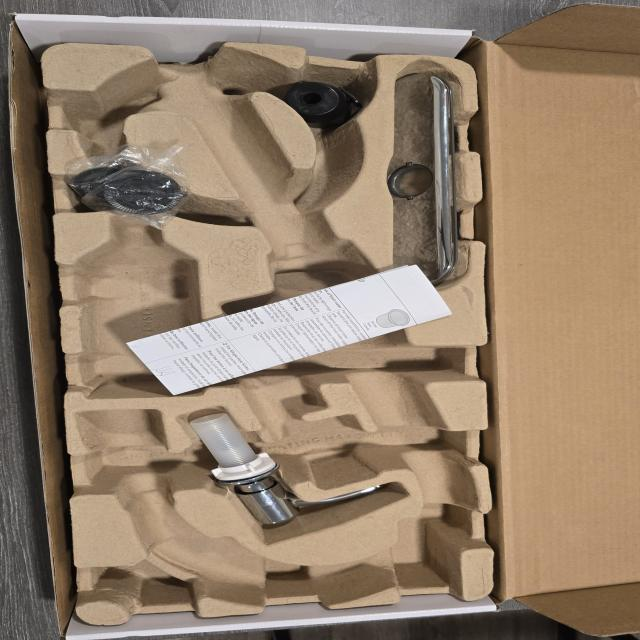1m: (77, 45, 475, 602)
2: (189, 411, 383, 529)
3m: (75, 215, 205, 396)
4o: (389, 75, 459, 286)
5: (286, 80, 364, 127)
6m: (62, 72, 163, 141)
7: (67, 144, 194, 226)
8: (126, 263, 452, 397)
